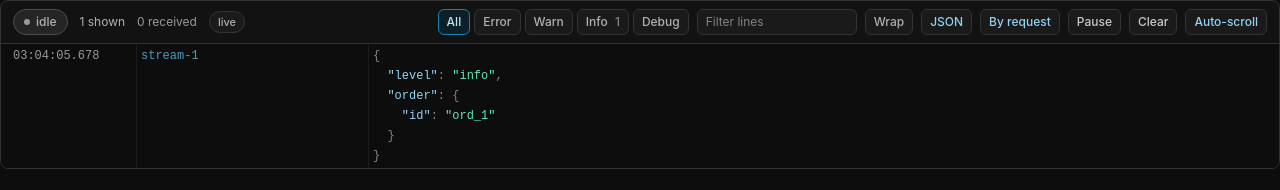
it: LogViewer expandable JSON lines › opens and closes with the keyboard
The image size is (1280, 190).
Click the button with test id "json-toggle".
click(947, 22)  # box [921, 9, 972, 35]
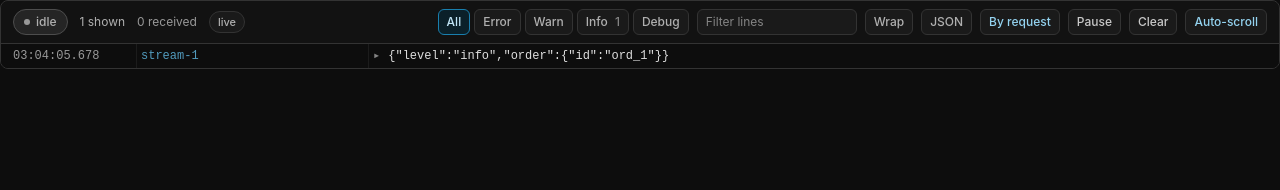
Press Enter in the button with test id "log-line", box [13, 49, 669, 63]
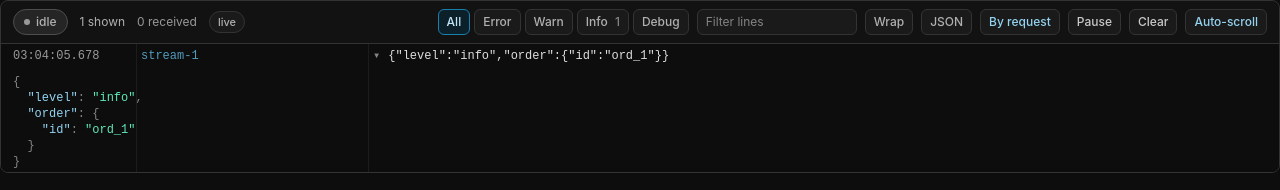
Now the element with test id "log-json-expanded" is shown, box [13, 75, 143, 169]
Press Space in the button with test id "log-line", box [13, 49, 669, 169]
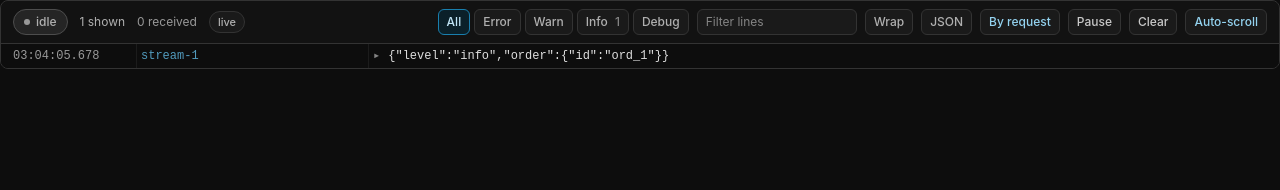
Now the element with test id "log-json-expanded" is gone
